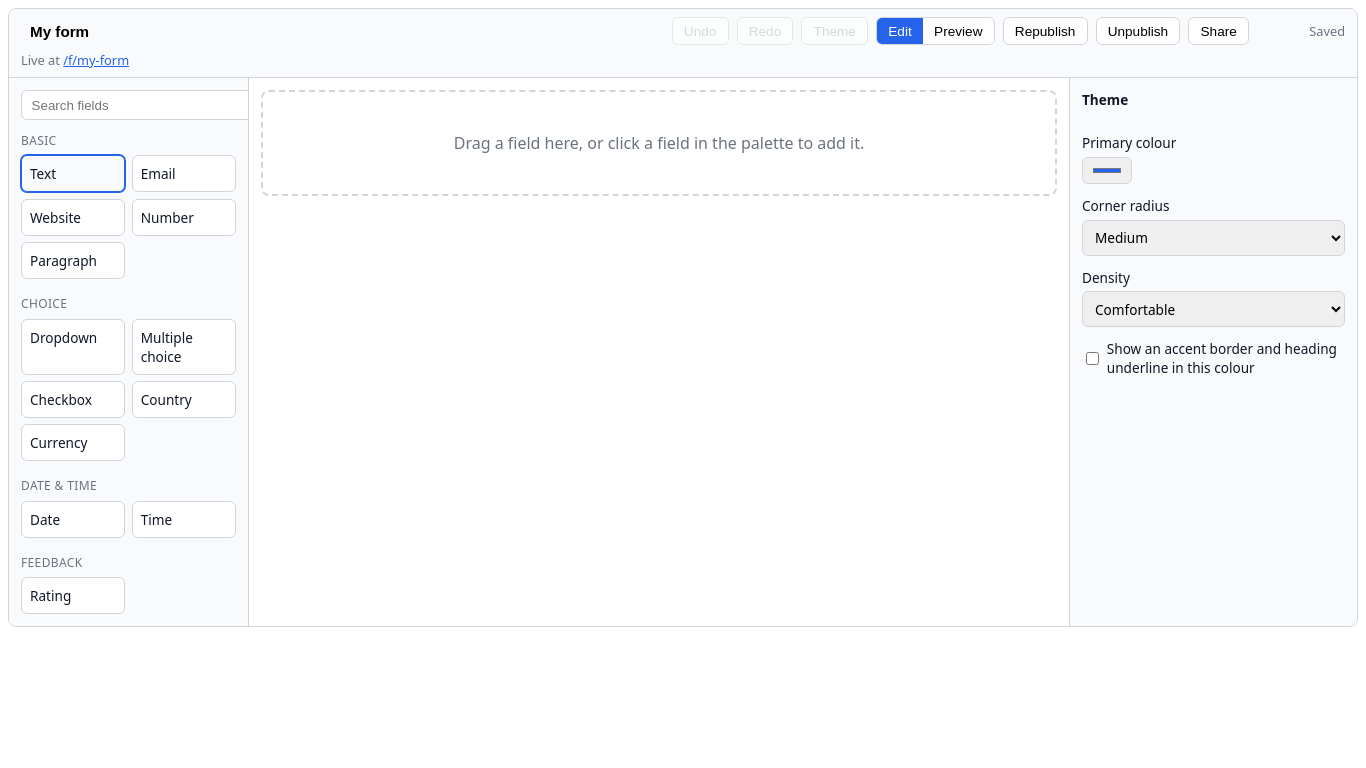
Test: Builder › keeps the form published and shows the error if unpublishing fails
What coordinates should you click on to do the following:
click the button "Unpublish"
I would click on:
 (1138, 31)
Its box is top-left (1096, 17), bottom-right (1180, 45).
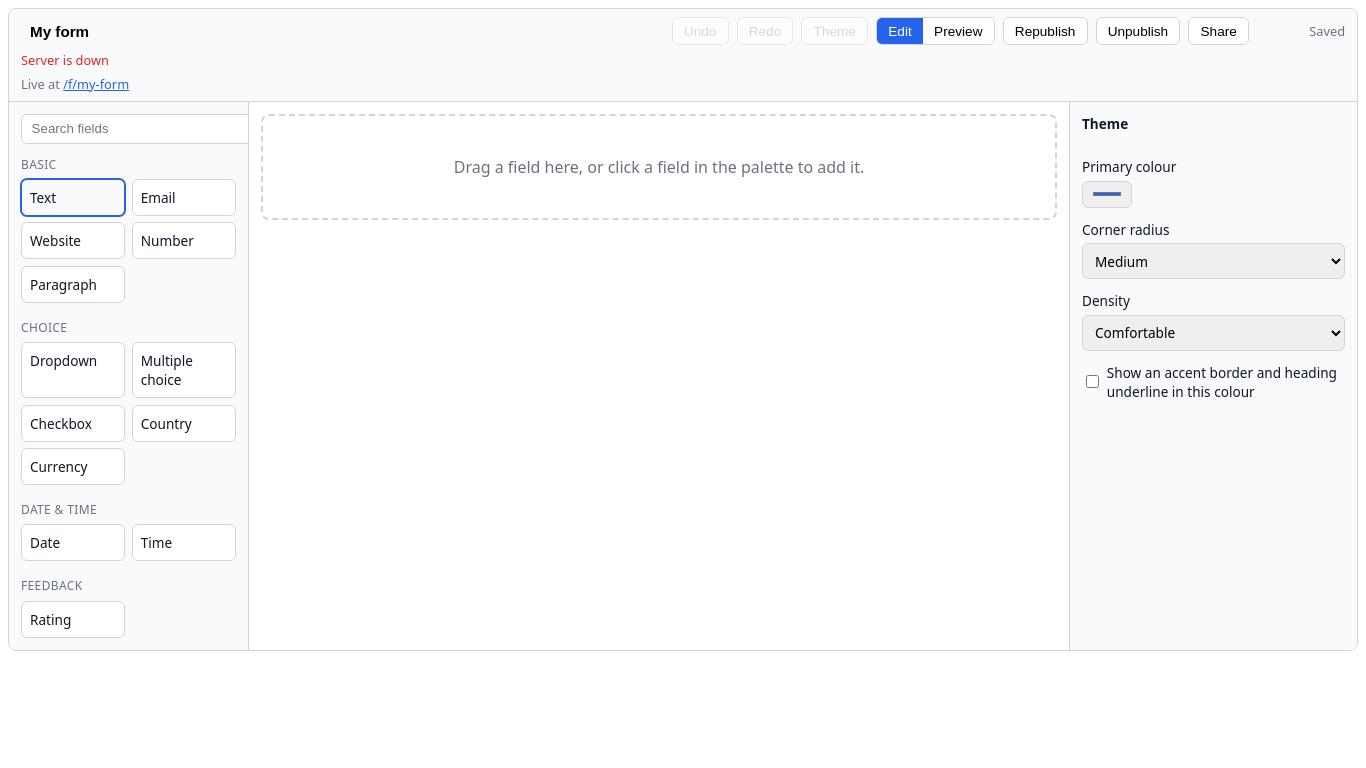
Check: the link "/f/my-form" is shown, box top-left (63, 75), bottom-right (129, 93)
Check: the text "Server is down" is shown, box top-left (21, 51), bottom-right (109, 69)
